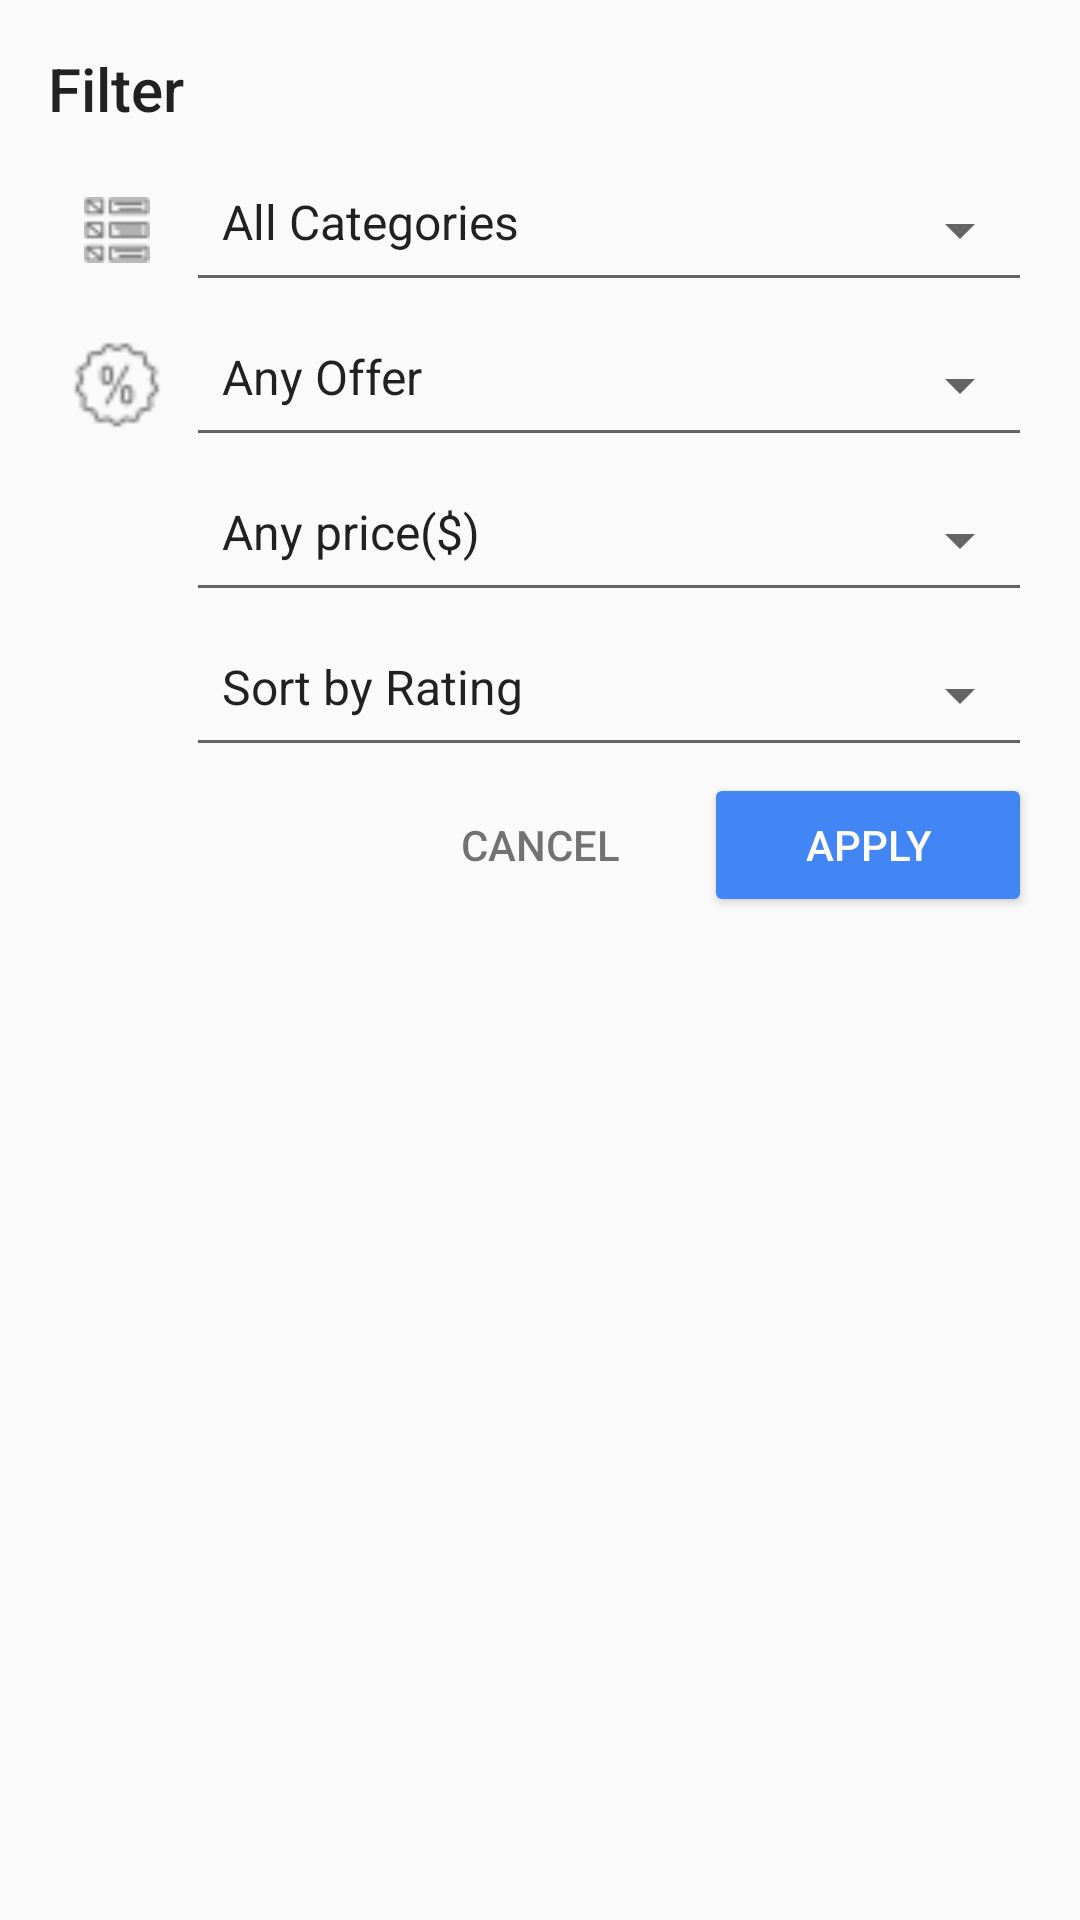

Named icons in this screenshot (1080px×1920px) and their bounding boxes, Rect(x1, y1, x2, y2):
discounts: Rect(75, 343, 159, 427)
